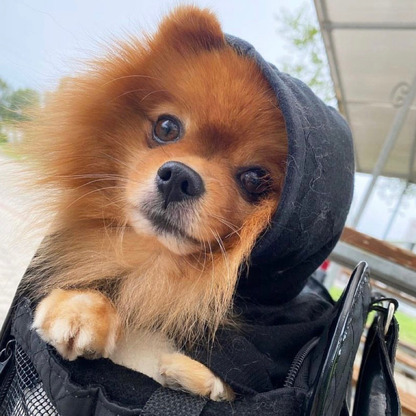Pomeranian: (48, 19, 300, 386)
